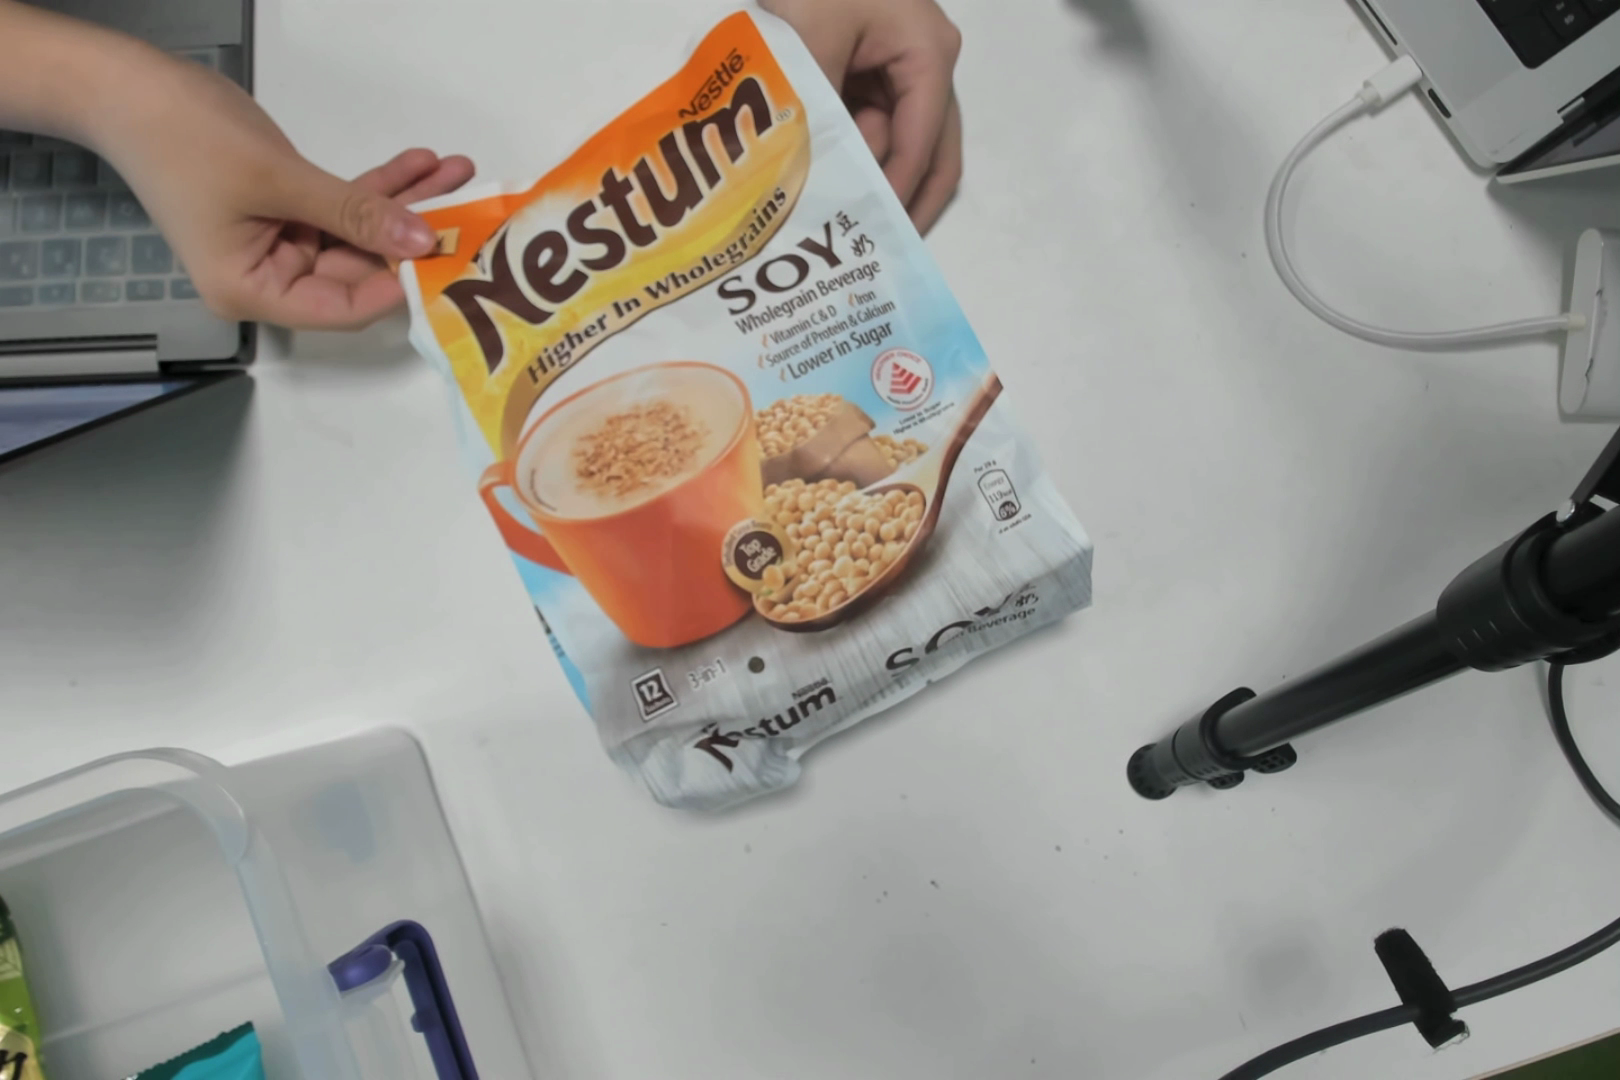e: (444, 49, 1002, 774)
